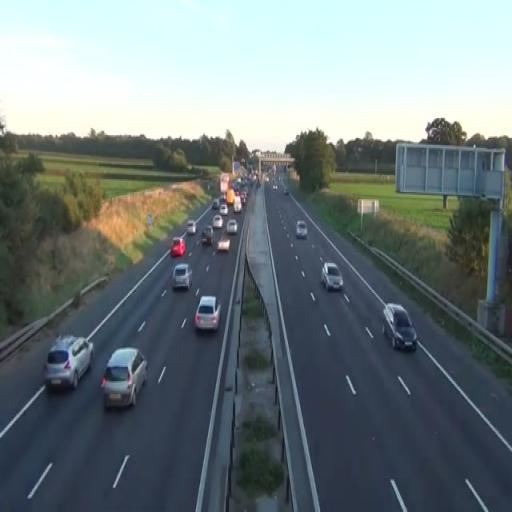Car: (43, 333, 94, 392), (101, 346, 148, 410), (382, 304, 417, 352), (194, 295, 220, 334), (321, 262, 343, 292), (172, 262, 193, 291), (170, 236, 186, 258), (296, 220, 308, 240), (201, 226, 213, 246), (217, 237, 230, 252), (226, 219, 238, 235), (212, 214, 222, 230), (187, 220, 196, 235)
